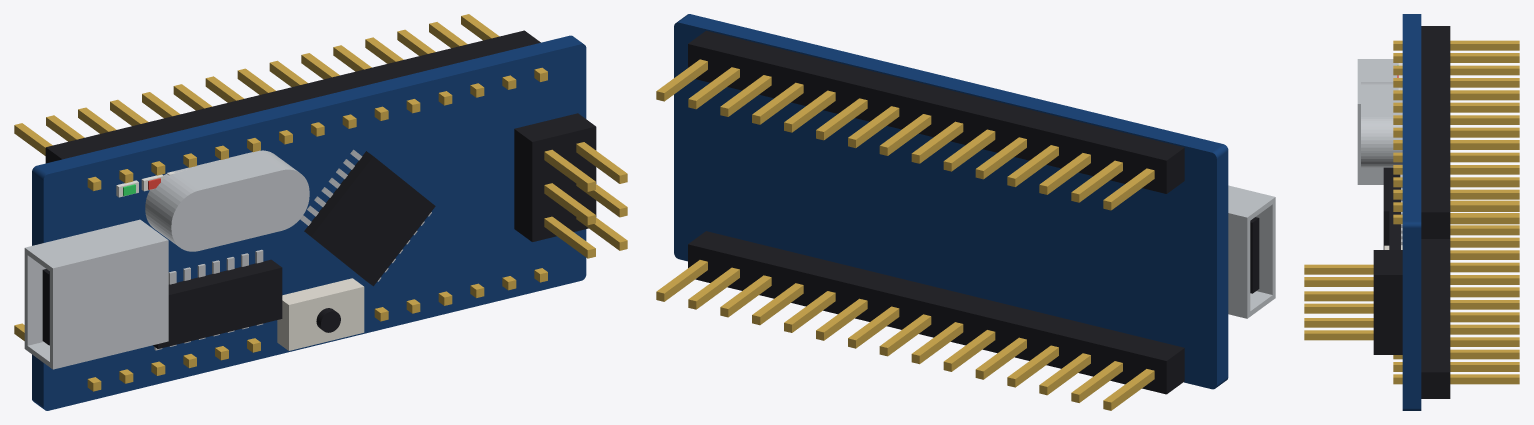
The picture shows the model from 3 angles, left to right: view 1: azimuth 30°, elevation 25°; view 2: azimuth 150°, elevation 25°; view 3: azimuth 270°, elevation 25°; orthographic projection. The views are drawn at different scales.
Visible parts, largest first — view 1: g0-pcb, g2-plastic, g1-metal, g9-gold, g4-plastic, g3-metal; view 2: g0-pcb, g2-plastic, g9-gold, g1-metal; view 3: g9-gold, g2-plastic, g0-pcb, g1-metal.
Part boxes in pixels (<box>): g0-pcb: <box>32,35,586,410</box>; g2-plastic: <box>42,30,596,348</box>; g1-metal: <box>24,150,309,369</box>; g9-gold: <box>14,14,627,391</box>; g4-plastic: <box>277,278,364,350</box>; g3-metal: <box>154,149,431,350</box>; g0-pcb: <box>674,14,1228,389</box>; g2-plastic: <box>688,30,1259,394</box>; g9-gold: <box>656,59,1154,410</box>; g1-metal: <box>1228,185,1275,318</box>; g9-gold: <box>1304,40,1519,384</box>; g2-plastic: <box>1373,26,1450,398</box>; g0-pcb: <box>1402,14,1421,410</box>; g1-metal: <box>1357,59,1402,184</box>.
Bounding box in the file's own units: 44.7 × 18 × 18.6.
